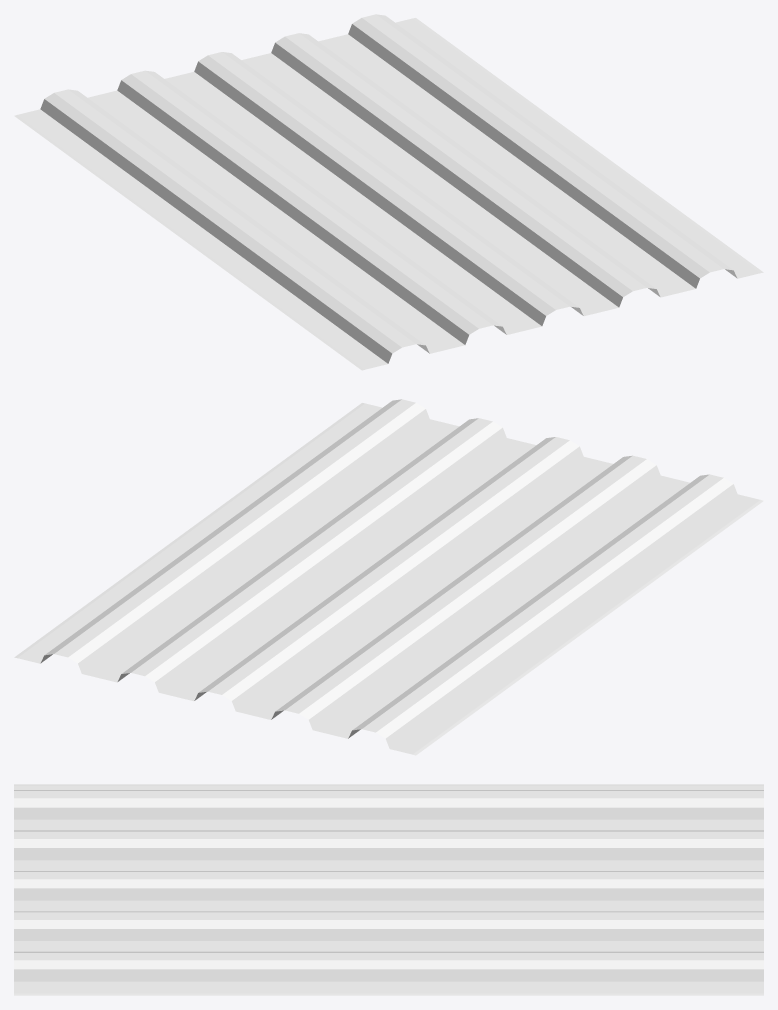
Rendered from Env_Dirt_Rows_Long_Center_Watered_01.glb.
The picture shows the model from 3 angles, top to bottom: view 1: azimuth 30°, elevation 25°; view 2: azimuth 150°, elevation 25°; view 3: azimuth 270°, elevation 25°; orthographic projection. The views are drawn at different scales.
Parts seen in each view (by area): view 1: Env_Dirt_Rows_Long_Center_Watered_01; view 2: Env_Dirt_Rows_Long_Center_Watered_01; view 3: Env_Dirt_Rows_Long_Center_Watered_01.
Part boxes in pixels (x1,y1,x2,y2): Env_Dirt_Rows_Long_Center_Watered_01: (14,14,763,370); Env_Dirt_Rows_Long_Center_Watered_01: (14,399,763,755); Env_Dirt_Rows_Long_Center_Watered_01: (14,784,763,995).
Size of the model in its own units: 4 by 0.1262 by 6.
Materials: 1 (1 with a texture image).
